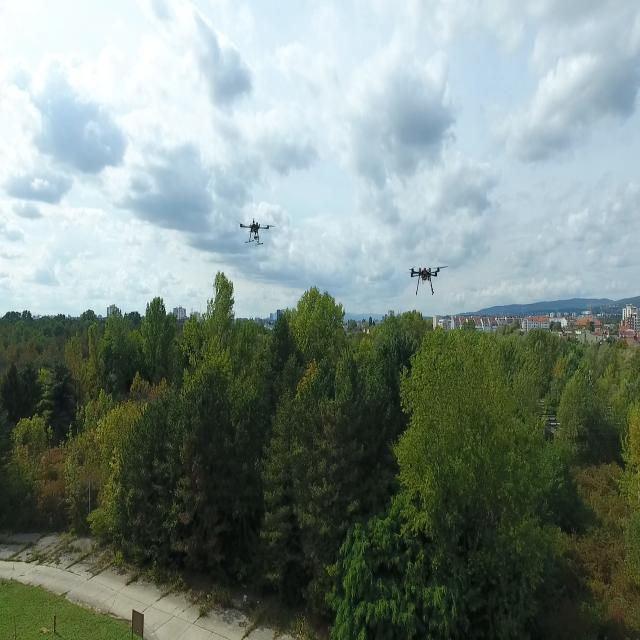UAV: (400, 258, 451, 301), (236, 214, 274, 249)
